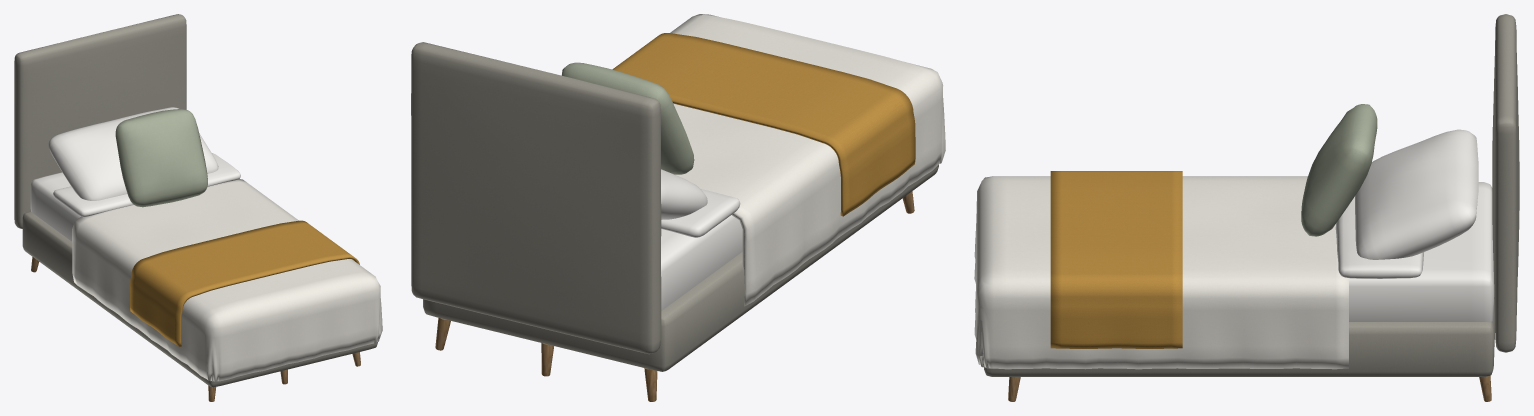
File: cama_tapizada_90.glb
3 views of the same model, side by side, from view 1: azimuth 30°, elevation 25°; view 2: azimuth 150°, elevation 25°; view 3: azimuth 270°, elevation 25° (orthographic). The views are drawn at different scales.
Parts seen in each view (by area): view 1: cama_tapizada_90; view 2: cama_tapizada_90; view 3: cama_tapizada_90.
Part boxes in pixels (x1,y1,x2,y2): cama_tapizada_90: (14,14,382,401); cama_tapizada_90: (411,14,945,401); cama_tapizada_90: (974,14,1519,401).
Bounding box in the file's own units: 1.08 × 1.21 × 2.07.
6 materials, 6 textured.
